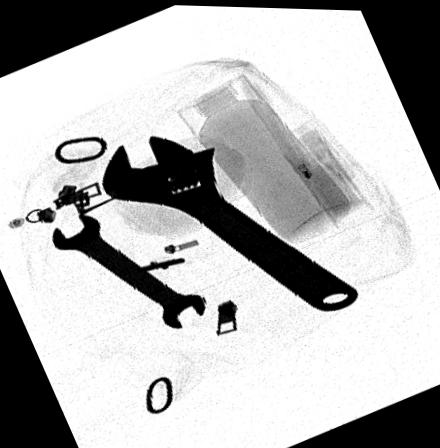Wrench: (98, 132, 360, 310), (49, 214, 202, 327)
